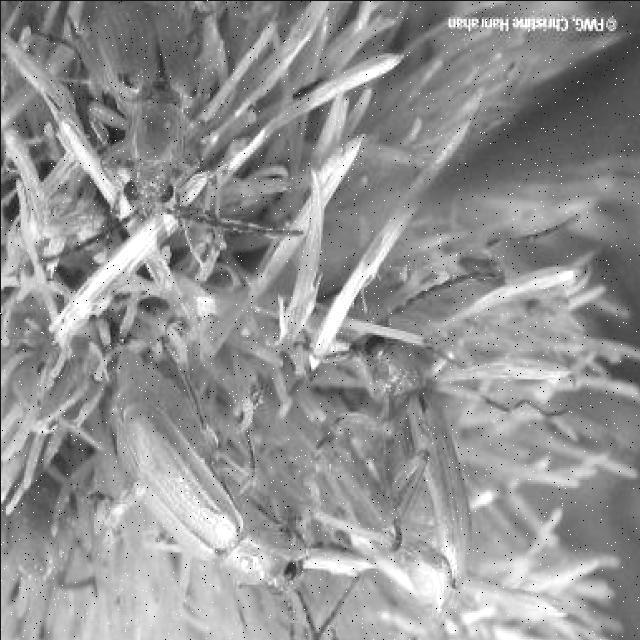gusano_gris: (33, 2, 305, 270), (292, 268, 495, 618), (108, 336, 338, 640), (0, 434, 98, 602)
